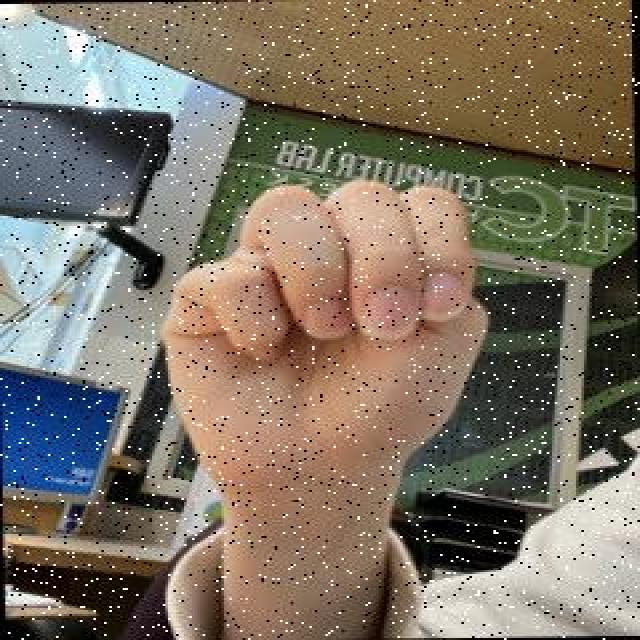M: (155, 177, 501, 499)
